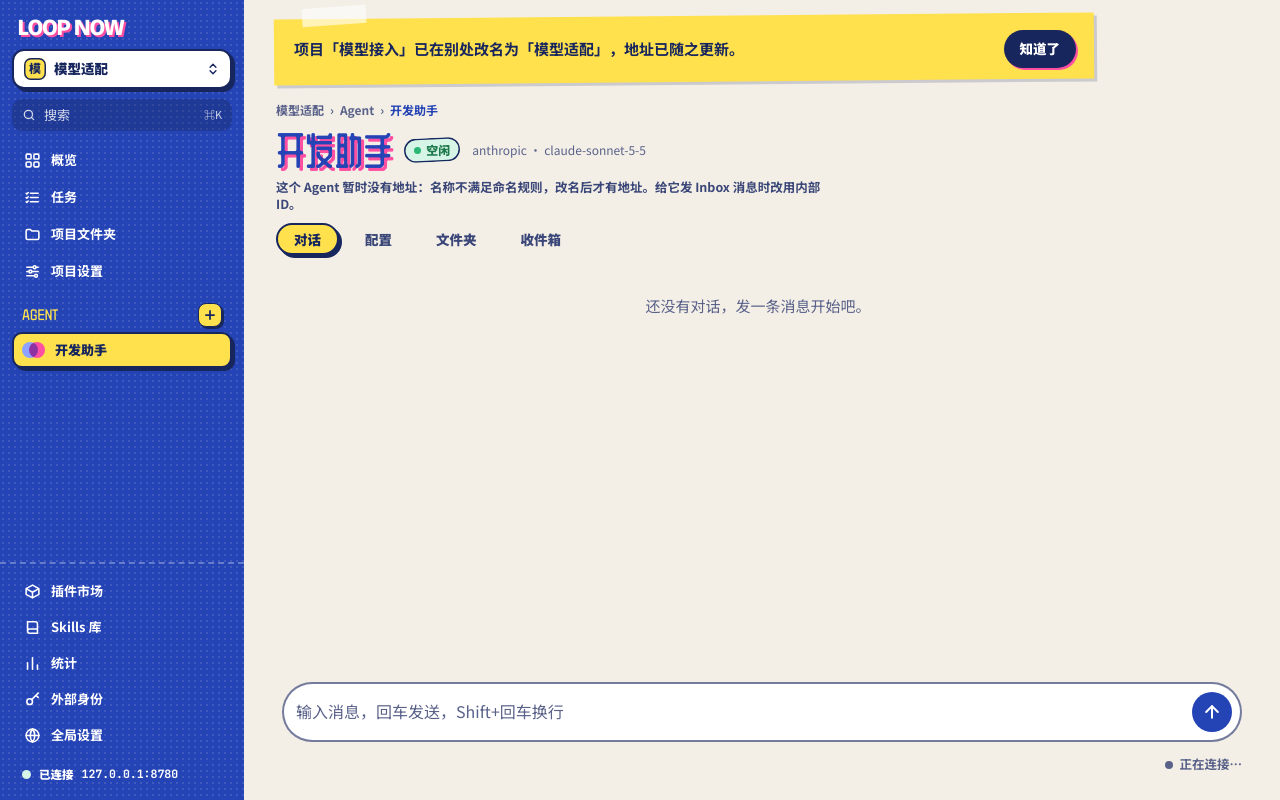
带项目的地址 › 停留期间项目被改名：按 ID 换到新名称的地址并提示，不新增历史记录
Click the button "知道了".
click(1040, 49)  # box [1004,30,1076,68]
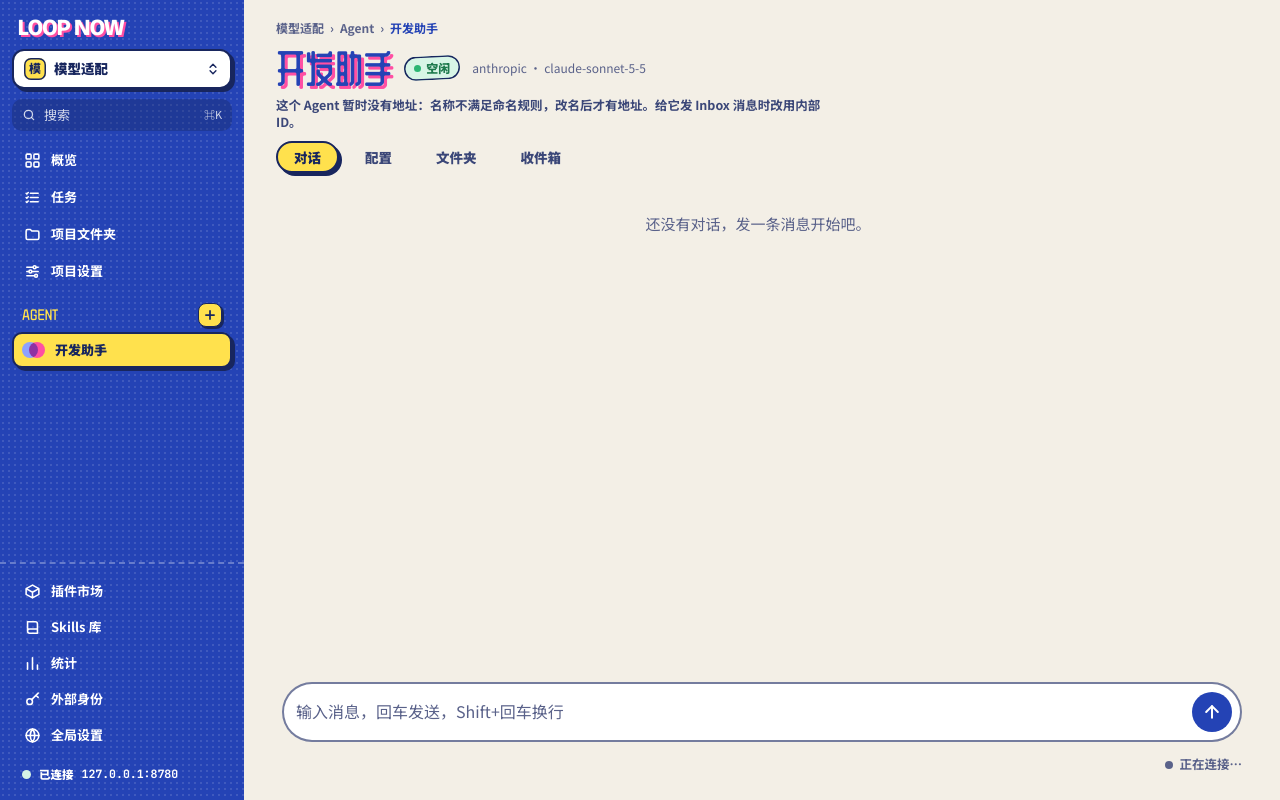
Now the text "已在别处改名" is gone
